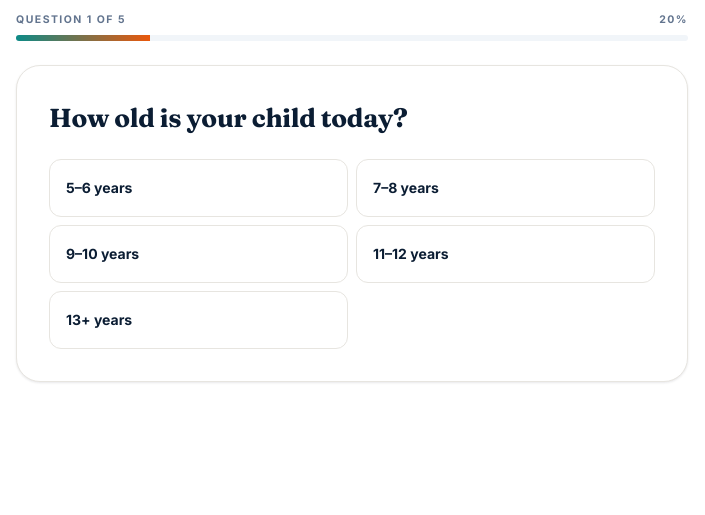
it: GradeFitQuiz › advances and completes the quiz
Click the button "5–6 years" at (99, 188), box [49,159,348,217]
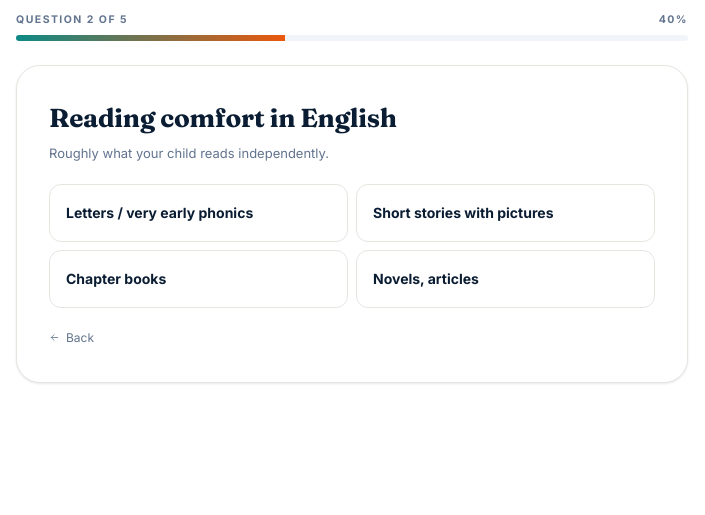
Click the button "Letters / very early phonics" at (198, 213), box [49,184,348,242]
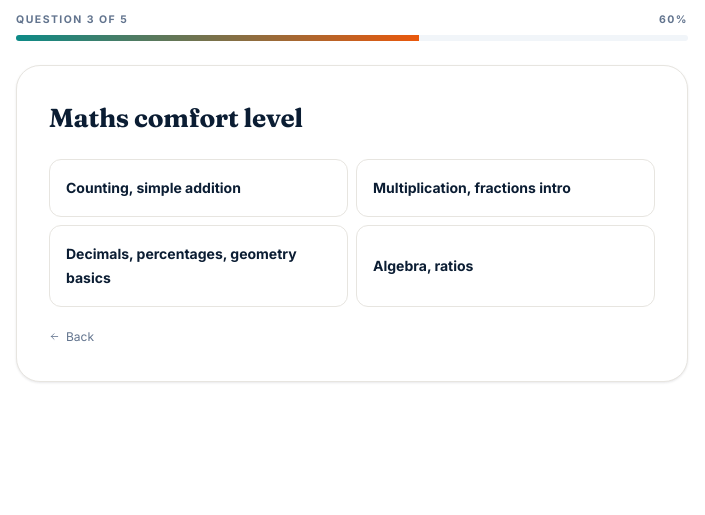
Click the button "Counting, simple addition" at (198, 188), box [49,159,348,217]
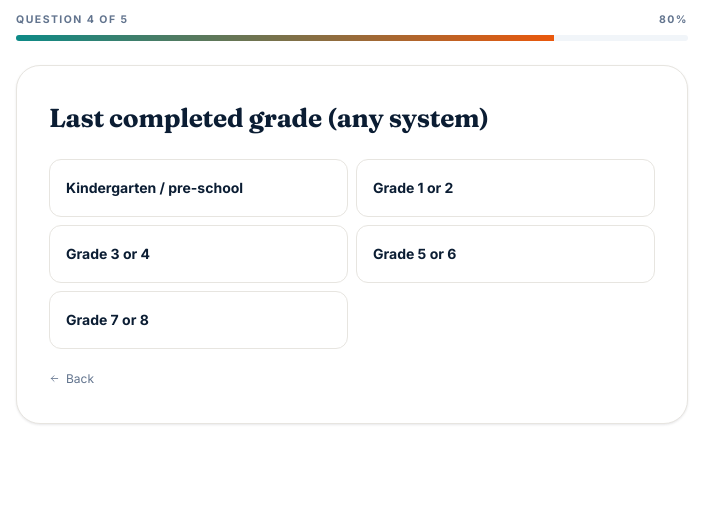
Click the button "Kindergarten / pre-school" at (198, 188), box [49,159,348,217]
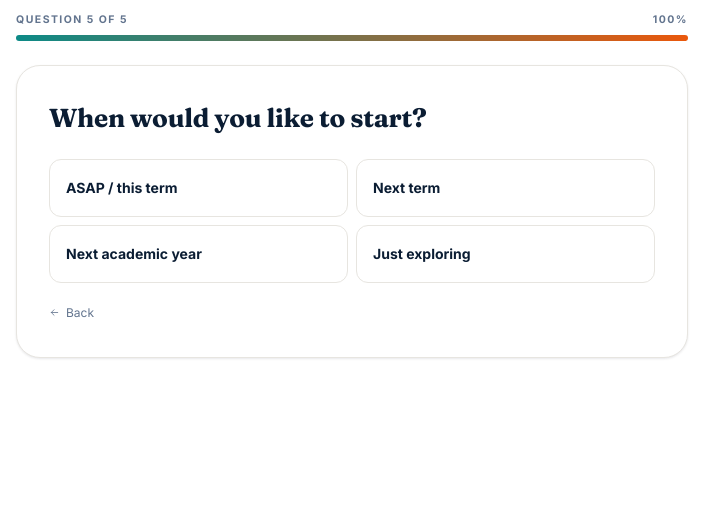
Click the button "ASAP / this term" at (122, 188), box [49,159,348,217]
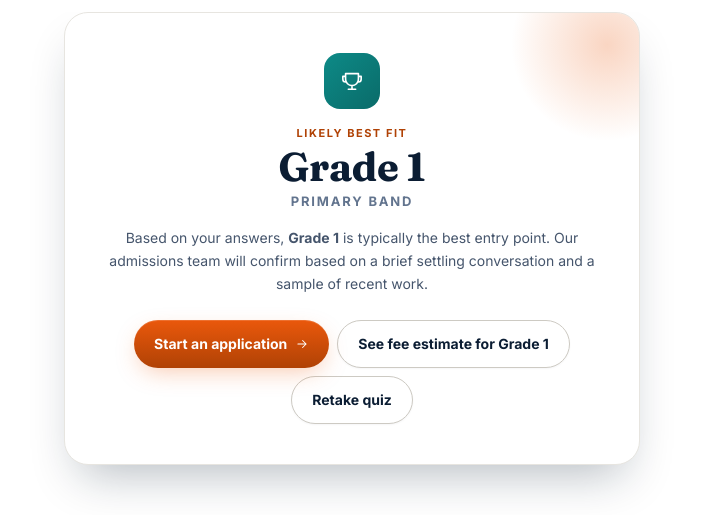
Now the text "Likely best fit" is shown, box [297,126,407,140]
